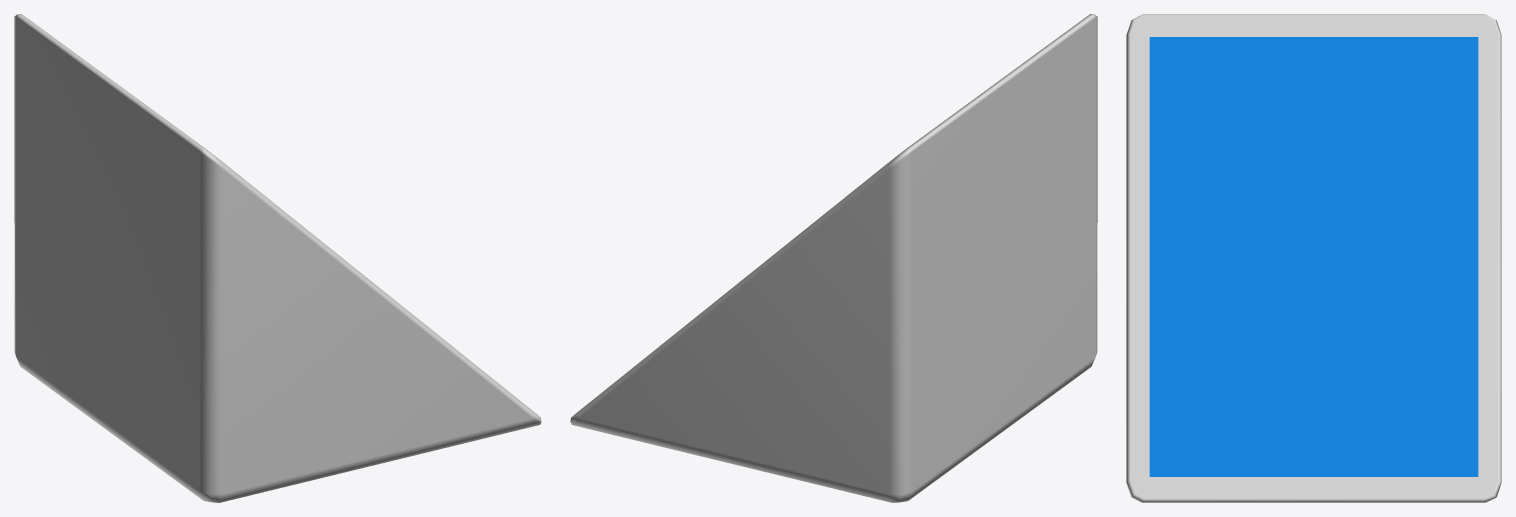
Rendered from block.gltf.
3 views of the same model, side by side, from view 1: azimuth 30°, elevation 25°; view 2: azimuth 150°, elevation 25°; view 3: azimuth 270°, elevation 25° (orthographic). The views are drawn at different scales.
Visible parts, largest first — view 1: block; view 2: block; view 3: block.
Boxes of the visible parts, bbox=[...] form: block: bbox=[14, 14, 541, 502]; block: bbox=[570, 14, 1097, 502]; block: bbox=[1126, 14, 1501, 502].
Size of the model in its own units: 2.36 by 2.36 by 2.4.
